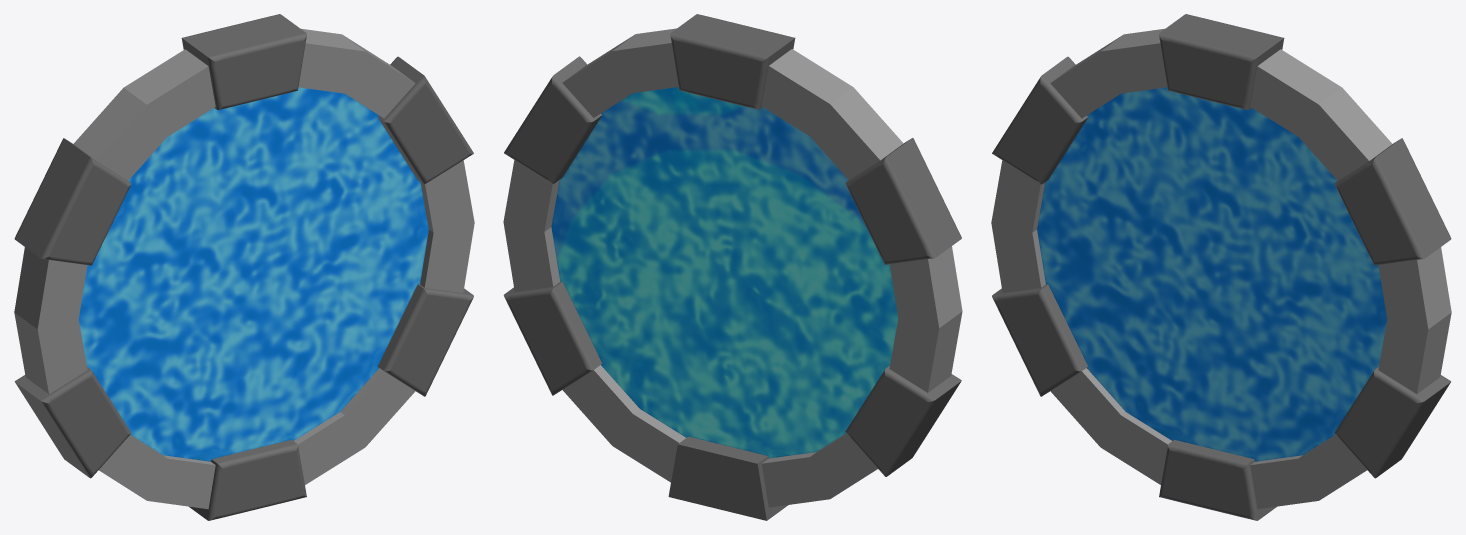
The model's file is portal.FBX.
3 renders of one model, left to right at view 1: azimuth 30°, elevation 25°; view 2: azimuth 150°, elevation 25°; view 3: azimuth 330°, elevation 25°, orthographic.
Parts seen in each view (by area): view 1: Obj_000008, Obj_000001, Obj_000006, Obj_000005, Obj_000007, Obj_000003, Obj_000002, Obj_000004; view 2: Obj_000008, Obj_000001, Obj_000006, Obj_000005, Obj_000007, Obj_000002, Obj_000003, Obj_000004; view 3: Obj_000008, Obj_000001, Obj_000004, Obj_000005, Obj_000003, Obj_000007, Obj_000002, Obj_000006.
Part boxes in pixels (<box>): Obj_000008: <box>78,87,428,461</box>; Obj_000001: <box>14,28,474,509</box>; Obj_000006: <box>14,138,131,265</box>; Obj_000005: <box>181,14,306,109</box>; Obj_000007: <box>14,367,131,478</box>; Obj_000003: <box>378,284,473,396</box>; Obj_000002: <box>189,439,306,520</box>; Obj_000004: <box>378,56,473,184</box>; Obj_000008: <box>551,87,898,458</box>; Obj_000001: <box>503,28,962,507</box>; Obj_000006: <box>845,138,961,264</box>; Obj_000005: <box>670,14,795,109</box>; Obj_000007: <box>845,366,961,476</box>; Obj_000002: <box>668,436,788,520</box>; Obj_000003: <box>503,281,602,395</box>; Obj_000004: <box>504,56,602,183</box>; Obj_000008: <box>1037,87,1387,461</box>; Obj_000001: <box>991,28,1451,509</box>; Obj_000004: <box>1334,138,1451,265</box>; Obj_000005: <box>1159,14,1284,109</box>; Obj_000003: <box>1334,367,1451,478</box>; Obj_000007: <box>992,284,1087,396</box>; Obj_000002: <box>1159,439,1276,520</box>; Obj_000006: <box>992,56,1087,184</box>.
Bounding box in the file's own units: 108 × 13 × 109.
3 materials, 1 textured.
